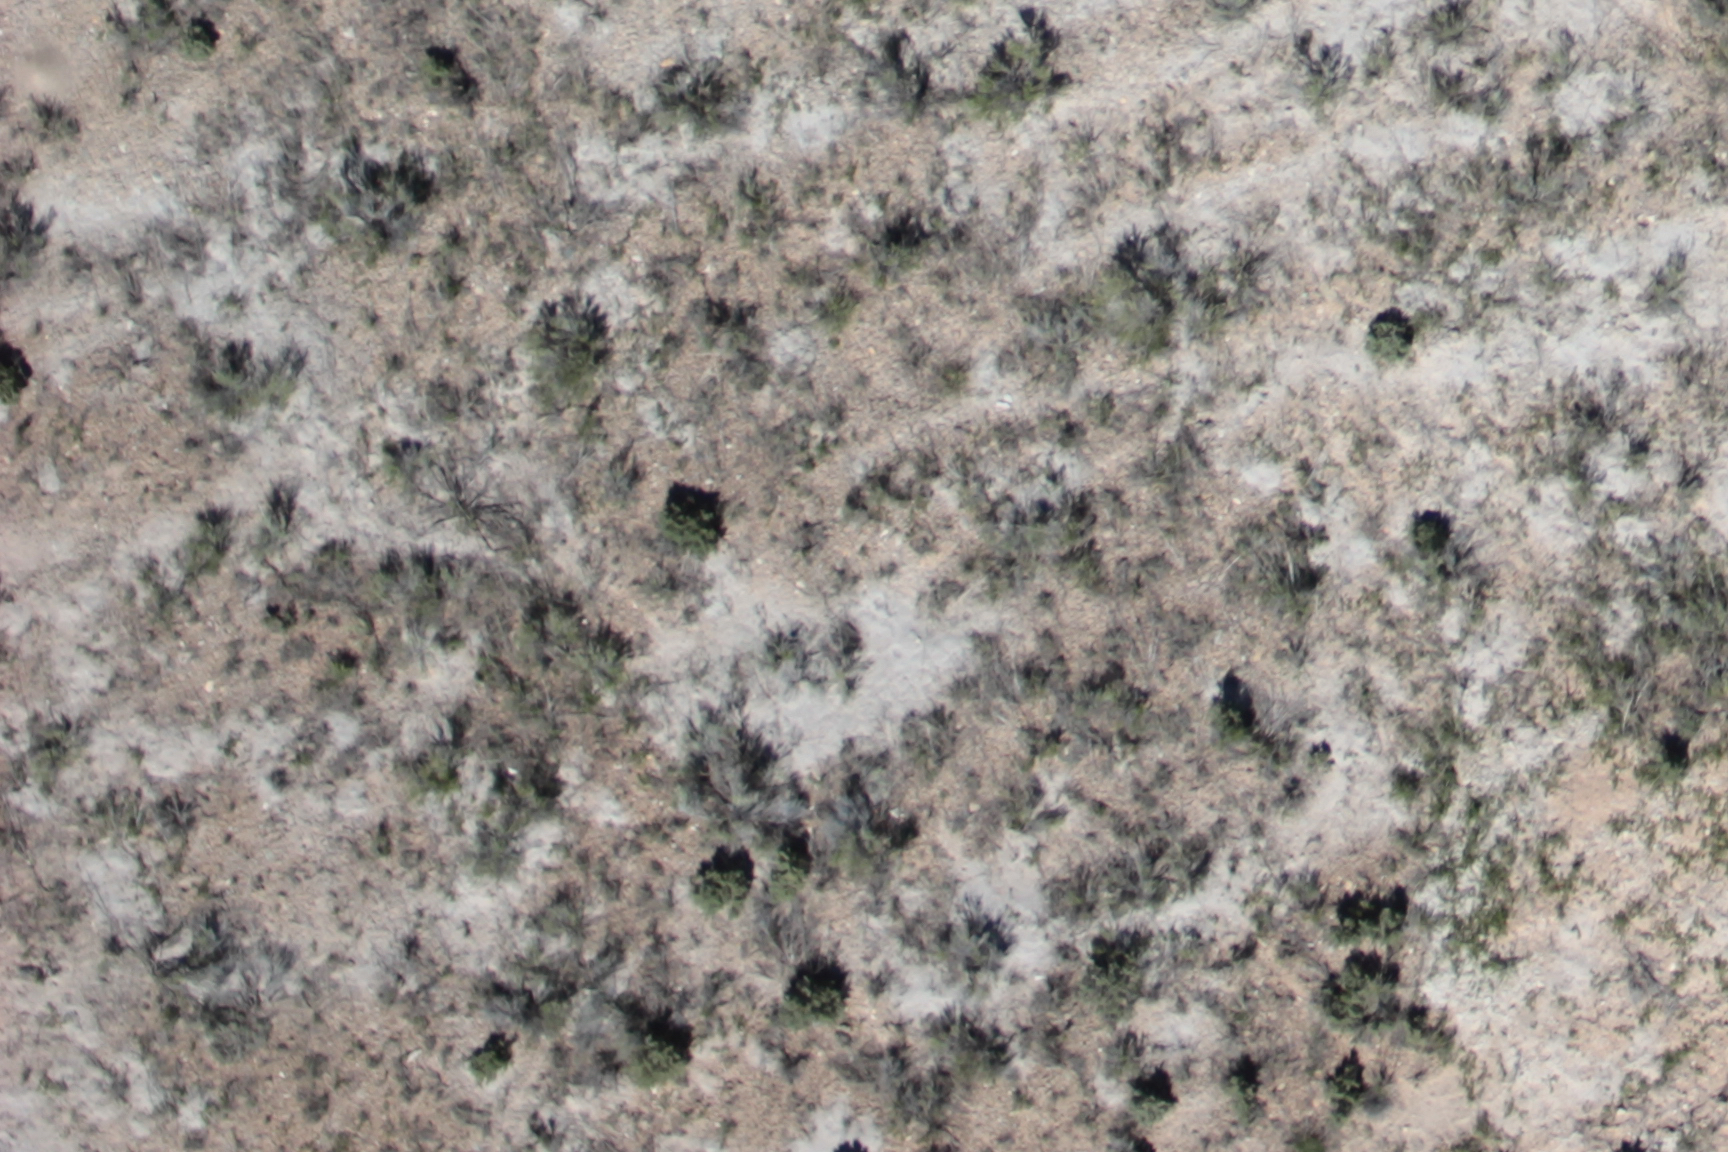burrow: (1, 40, 86, 116)
